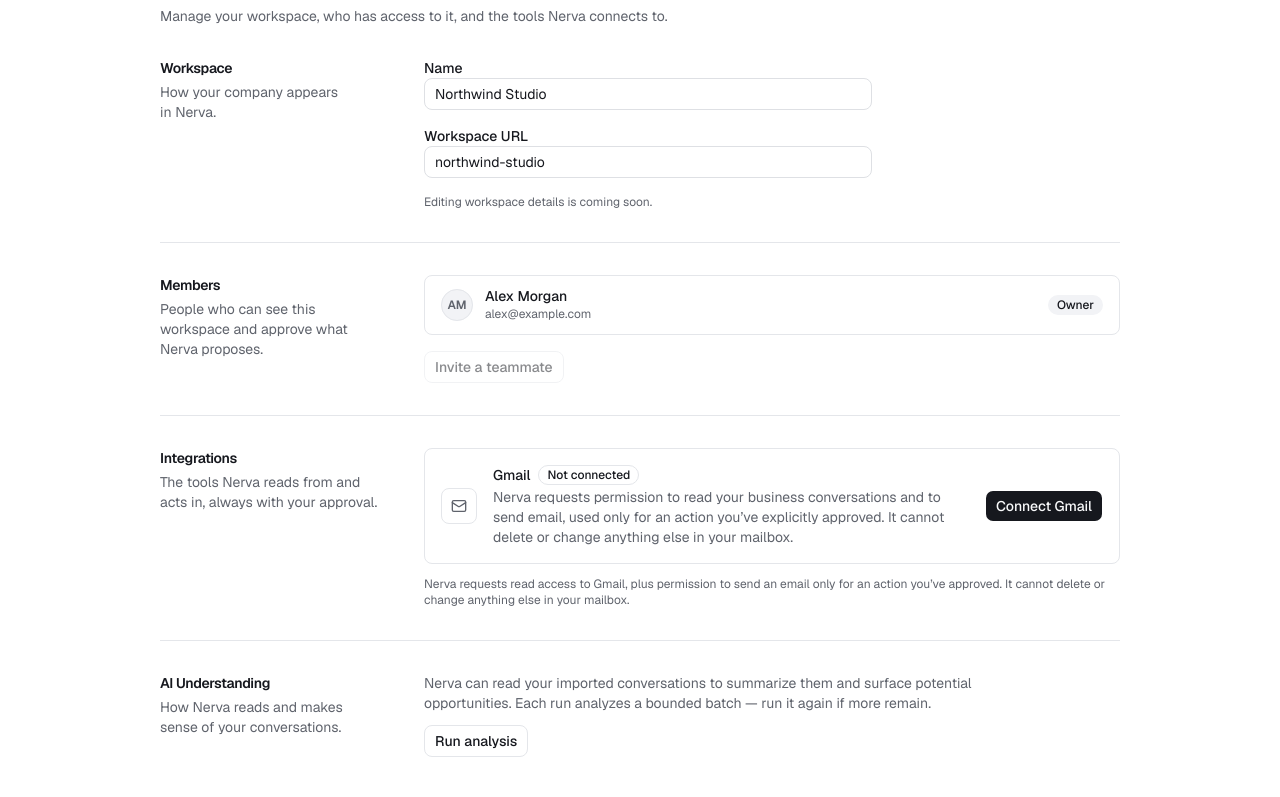
Test: SettingsView › AI Understanding › shows honest copy when nothing needed analysis
This screenshot has width=1280, height=797.
(page scrolled)
Step 1. Click the button "Run analysis" → (476, 740), box [424, 724, 528, 756]
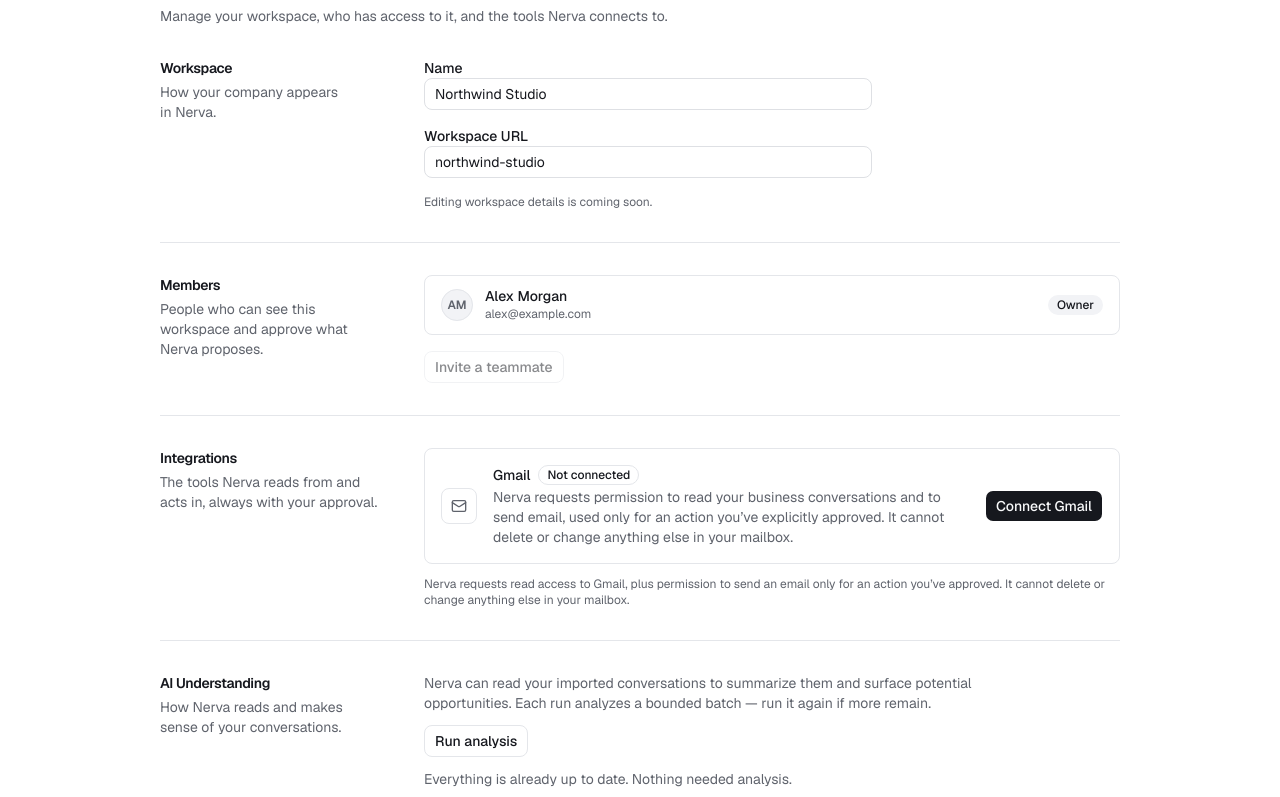
Check: the text "Everything is already up to date. Nothing needed analysis." is shown, box [424, 770, 792, 788]
